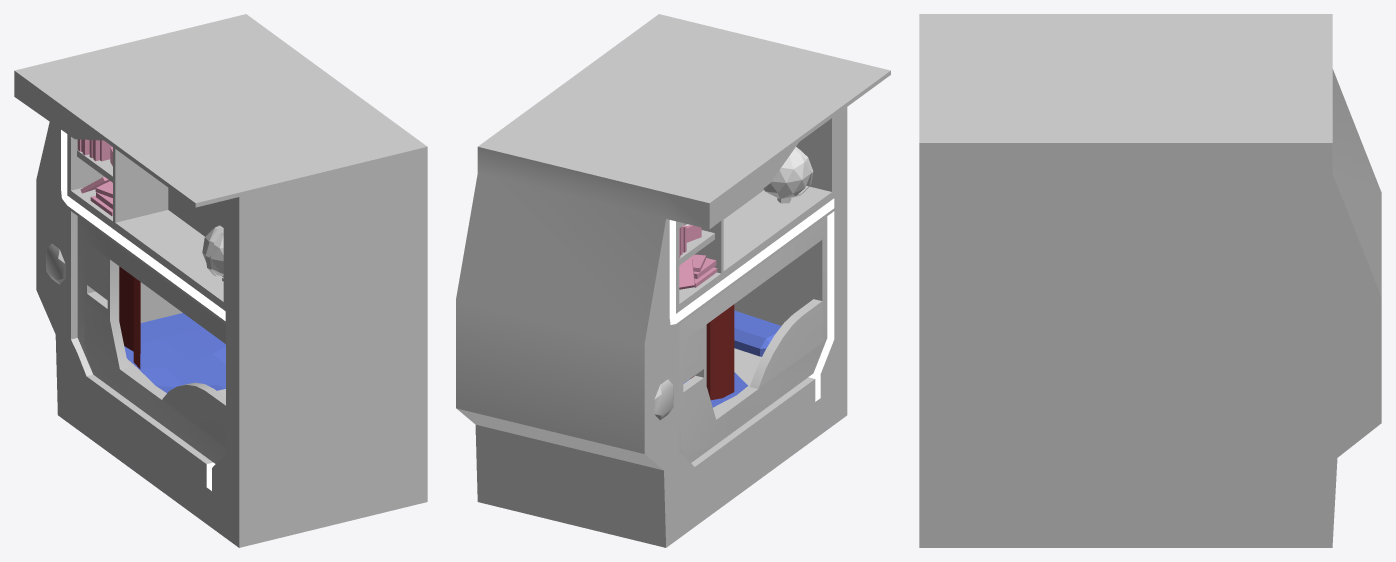
File: bed1.fbx
3 views of the same model, side by side, from view 1: azimuth 30°, elevation 25°; view 2: azimuth 150°, elevation 25°; view 3: azimuth 270°, elevation 25° (orthographic). The views are drawn at different scales.
Parts seen in each view (by area): view 1: Cube, Cube.001, Plane.001, Plane.002, Cube.005, Cylinder; view 2: Cube, Plane.001, Plane.002, Cube.001, Cube.005, Cylinder; view 3: Cube.
Part boxes in pixels (x1,y1,x2,y2): Cube: (14,14,427,547); Cube.001: (124,313,225,392); Plane.001: (61,130,225,490); Plane.002: (119,266,140,369); Cube.005: (77,139,112,216); Cylinder: (202,225,223,281); Cube: (456,14,890,547); Plane.001: (669,198,834,401); Plane.002: (690,304,734,400); Cube.001: (683,310,781,407); Cube.005: (679,224,717,289); Cylinder: (763,149,810,203); Cube: (919,14,1381,547).
Size of the model in its own units: 148 by 216 by 224.
